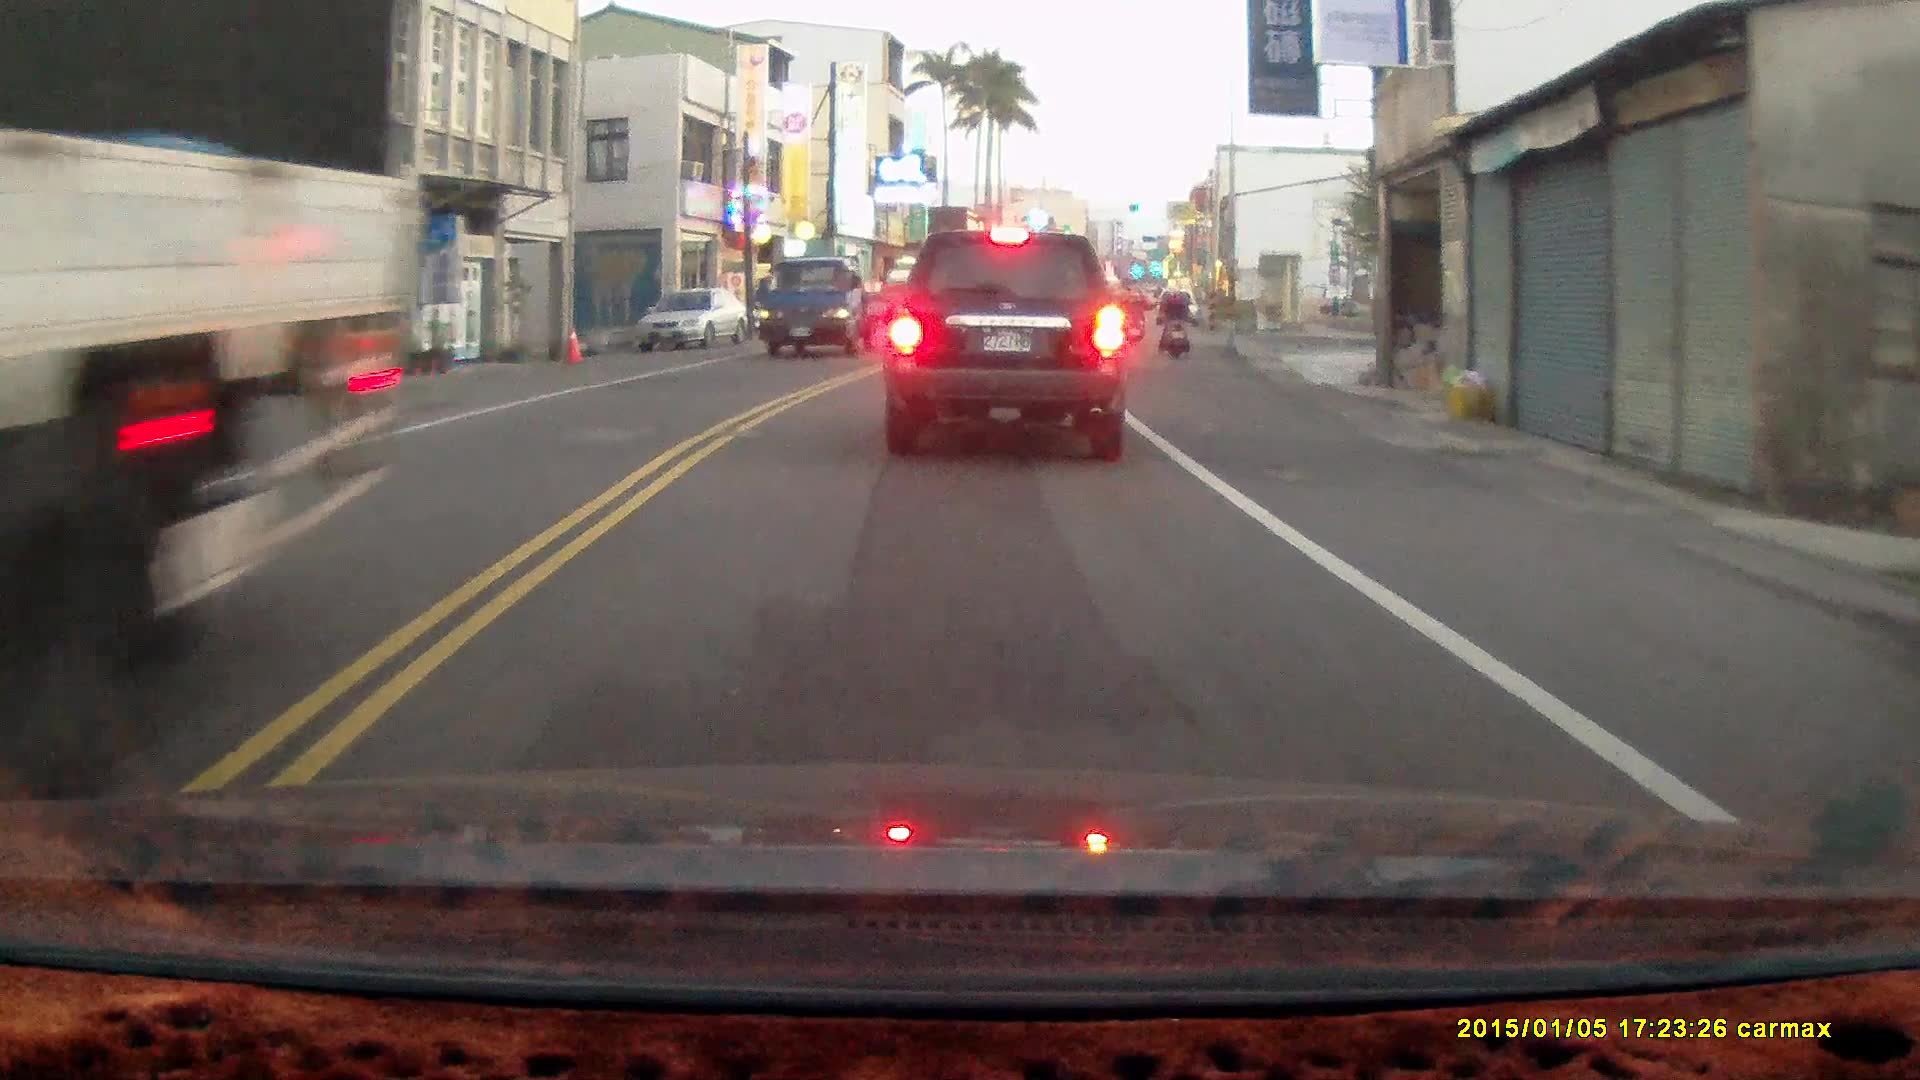rider: (1156, 280, 1187, 361), (1118, 281, 1145, 346)
vehicle: (0, 7, 469, 798), (881, 226, 1130, 460), (753, 256, 882, 362), (634, 286, 751, 351)
